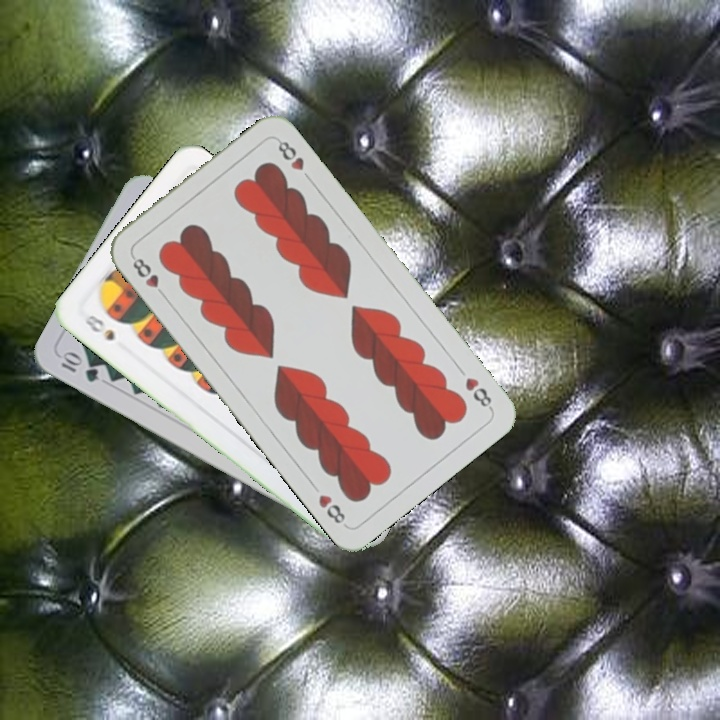G10: (56, 348, 101, 385)
H8: (127, 251, 170, 301), (461, 373, 496, 413)
S8: (80, 310, 118, 344)
